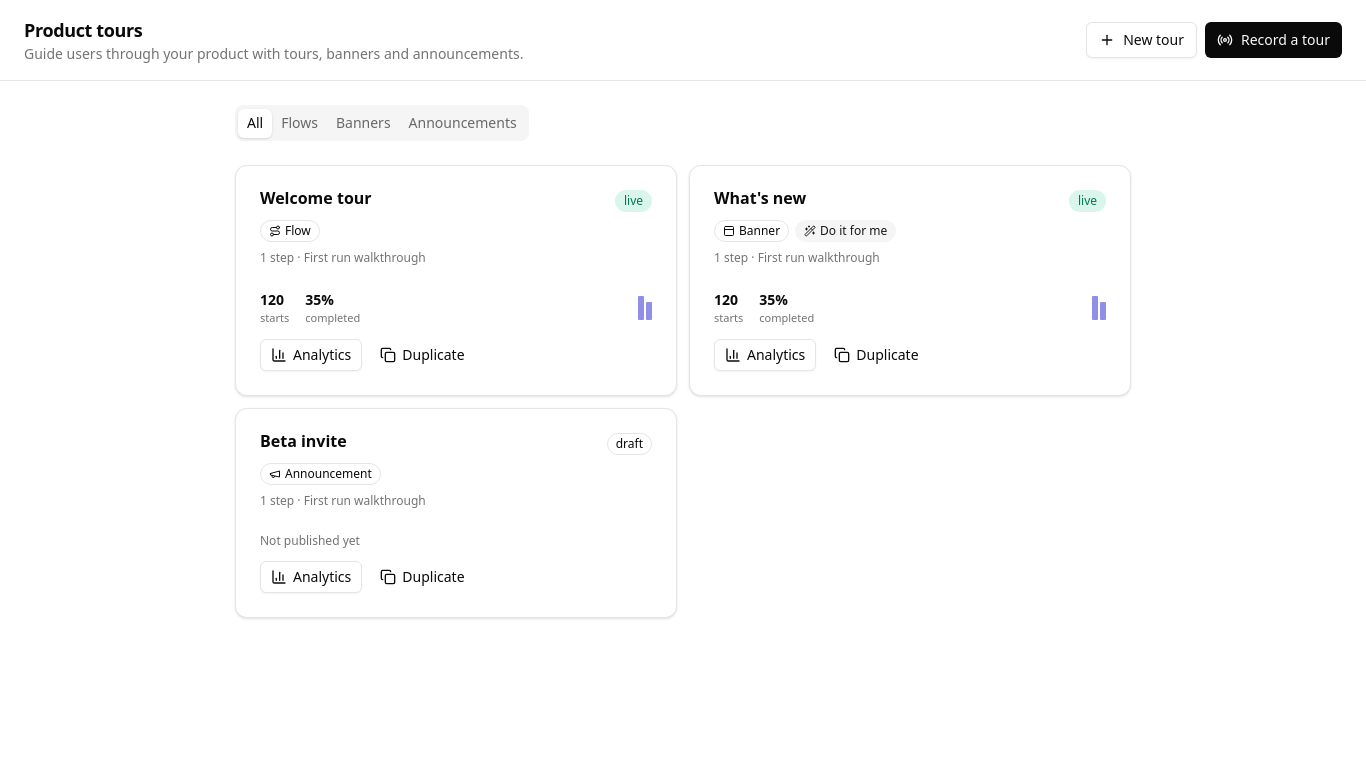
Test case: ToursPage › filters the list by kind tab
The width and height of the screenshot is (1366, 768).
Expected: the link "Welcome tour" is shown, [260,190,372,206]
Expected: the number of elements with test id "tour-card" is 3, [235,165,677,396]; [689,165,1131,396]; [235,408,677,618]
Click the tab "Banners": [363, 123] box [327,108,400,138]
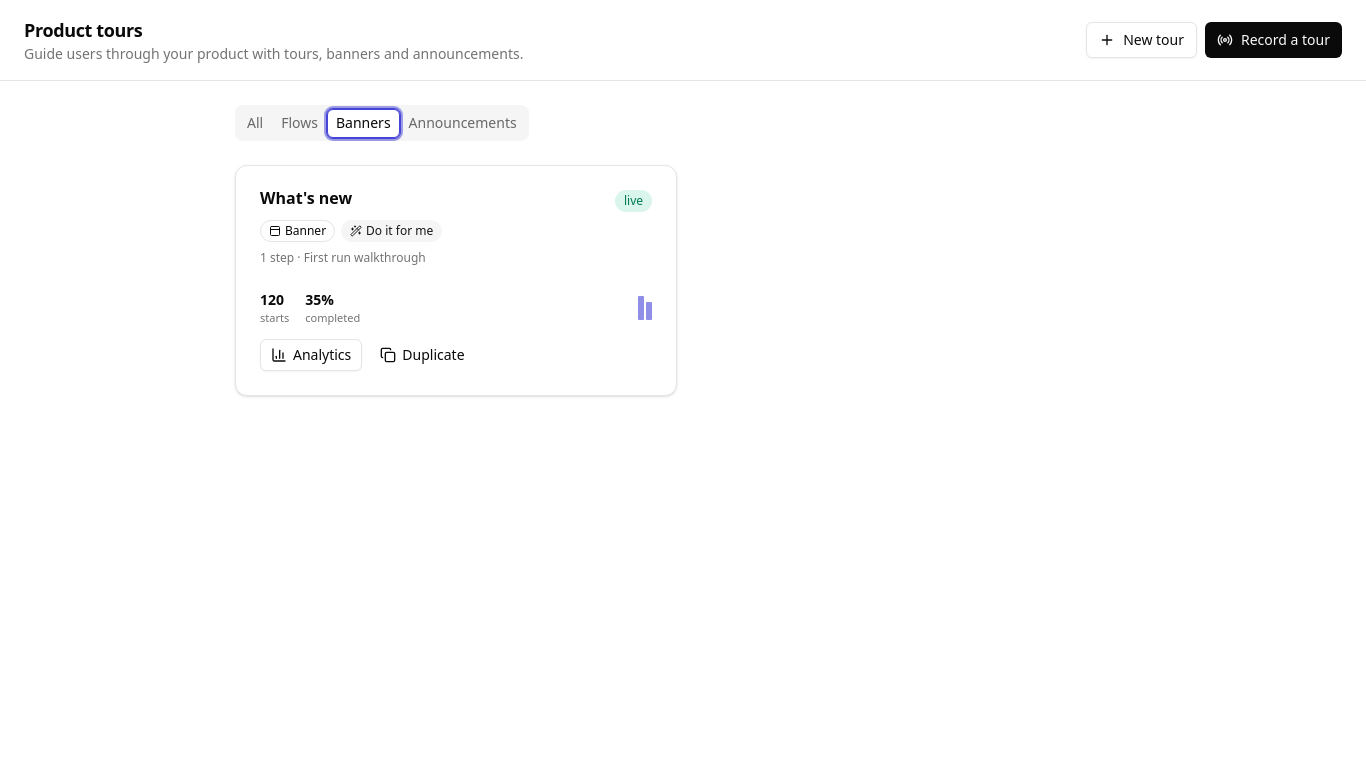
Expected: the link "What's new" is shown, [260,190,352,206]
Expected: the number of elements with test id "tour-card" is 1, [235,165,677,396]
Expected: the link "Welcome tour" is gone
Click the tab "Announcements": [463, 123] box [400,108,526,138]
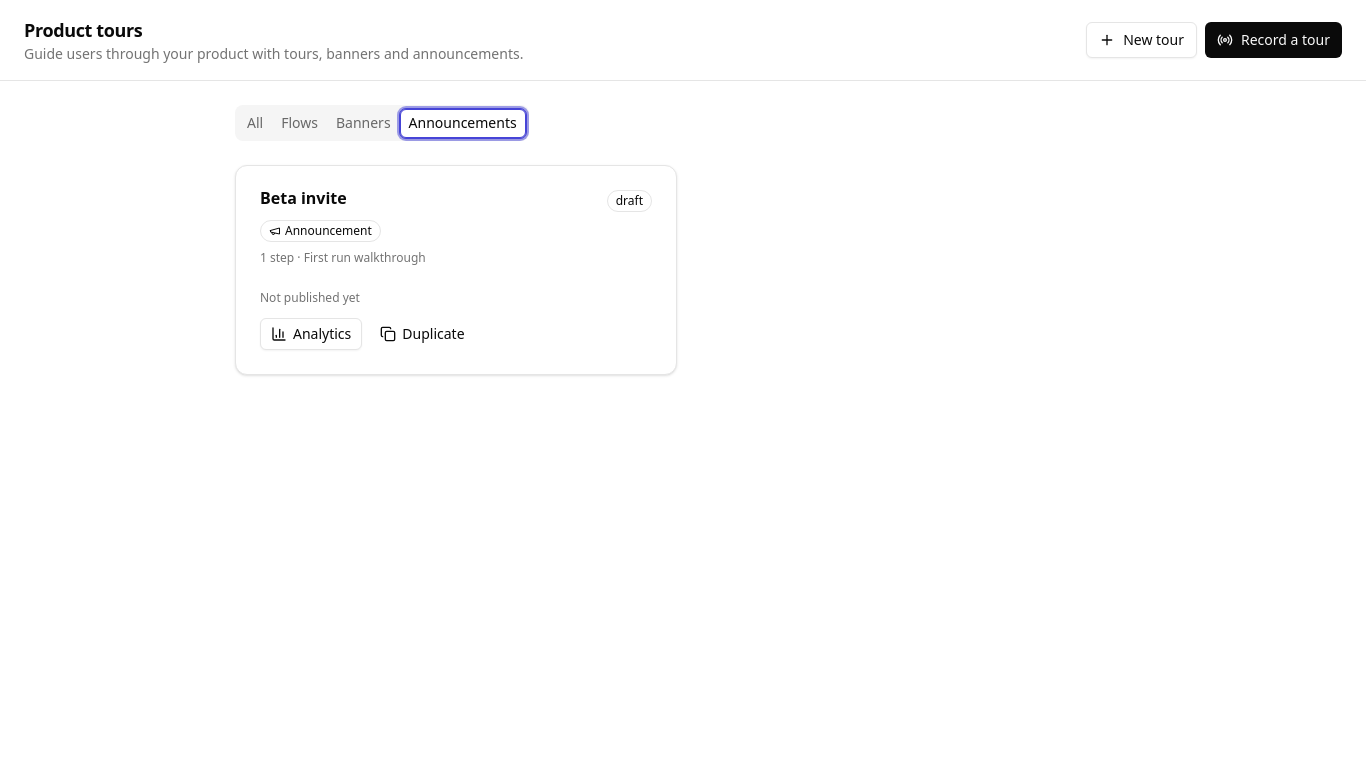
Expected: the link "Beta invite" is shown, [260,190,347,206]
Click the tab "Flows": [300, 123] box [272,108,327,138]
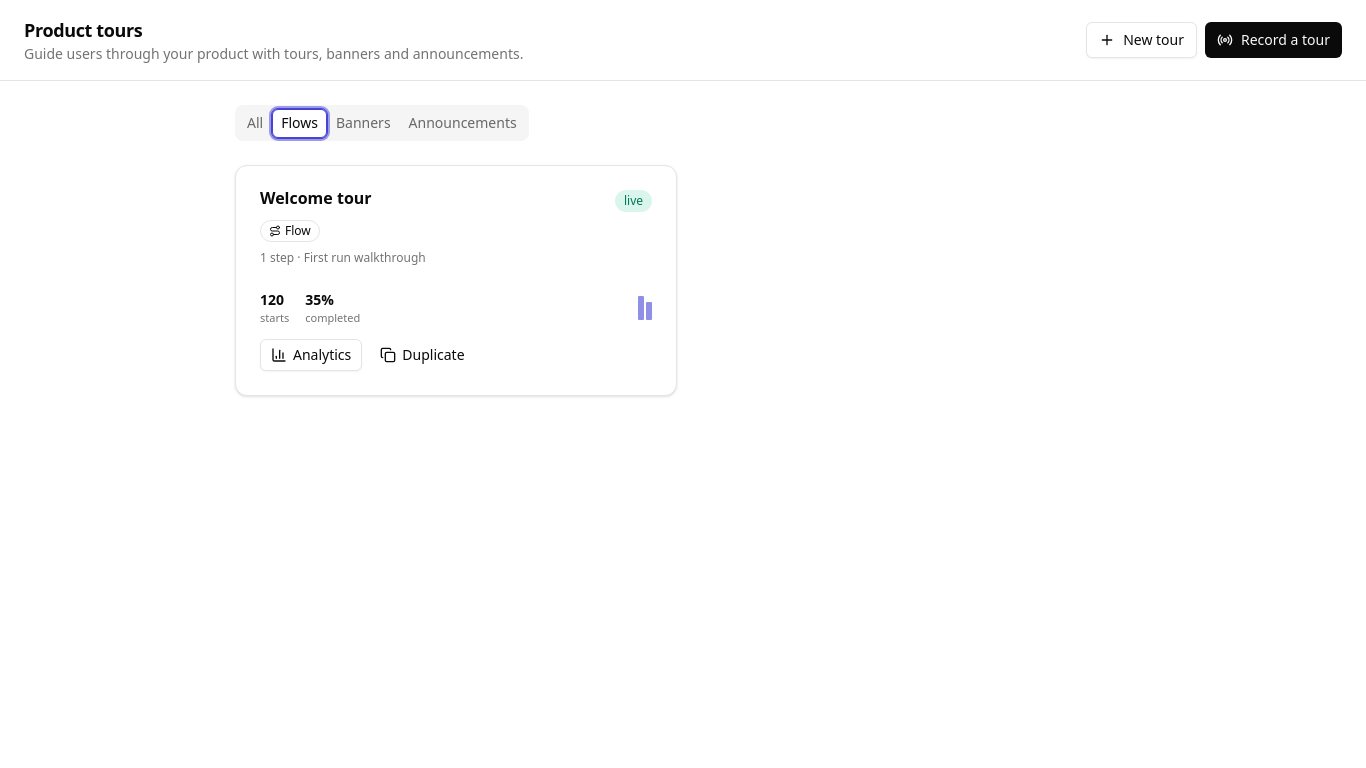
Expected: the number of elements with test id "tour-card" is 1, [235,165,677,396]
Expected: the link "Welcome tour" is shown, [260,190,372,206]
